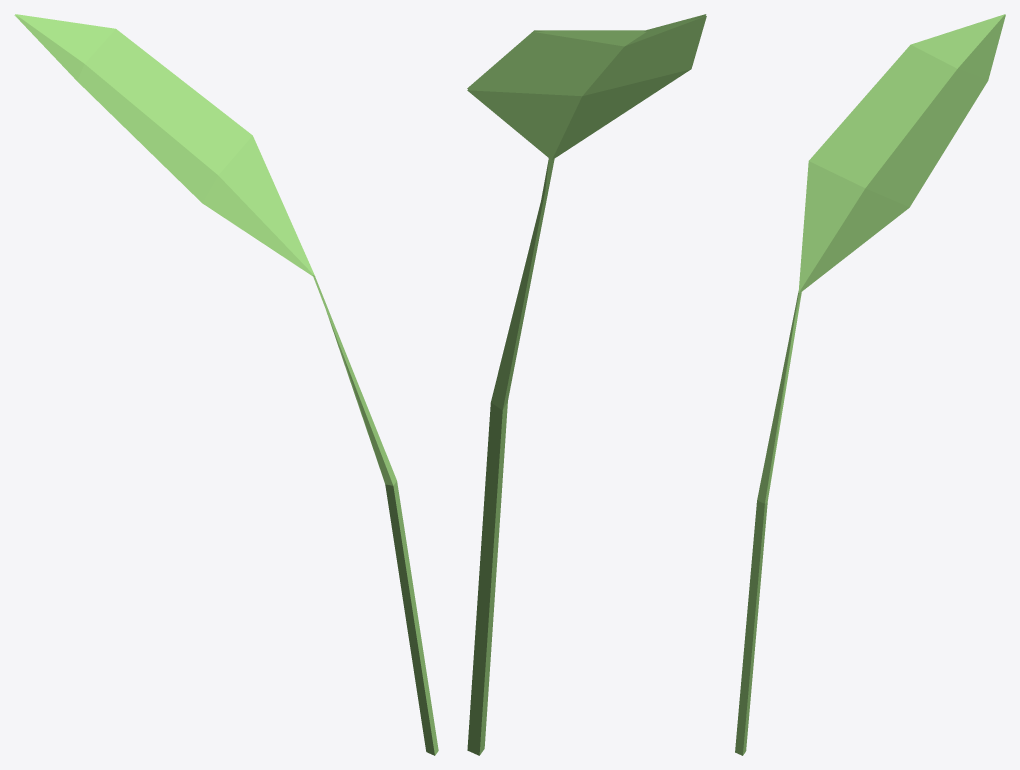
The model's file is Plant_j_TwoS_01.fbx.
3 renders of one model, left to right at view 1: azimuth 30°, elevation 25°; view 2: azimuth 150°, elevation 25°; view 3: azimuth 270°, elevation 25°, orthographic. The views are drawn at different scales.
Visible parts, largest first — view 1: Plant_j_TwoS_01; view 2: Plant_j_TwoS_01; view 3: Plant_j_TwoS_01.
Part boxes in pixels (bbox=[...]): Plant_j_TwoS_01: bbox=[14, 14, 438, 755]; Plant_j_TwoS_01: bbox=[467, 14, 706, 755]; Plant_j_TwoS_01: bbox=[735, 14, 1005, 755].
Bounding box in the file's own units: 0.2337 × 0.5615 × 0.2219.
